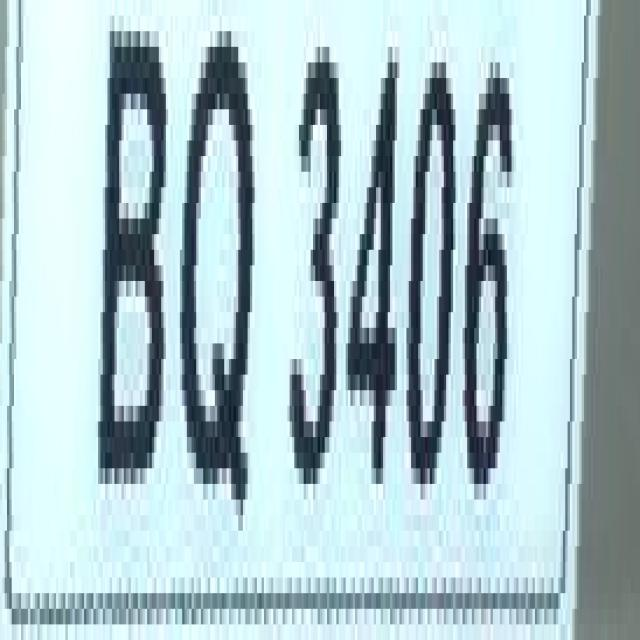license_plate: (9, 0, 596, 640)
